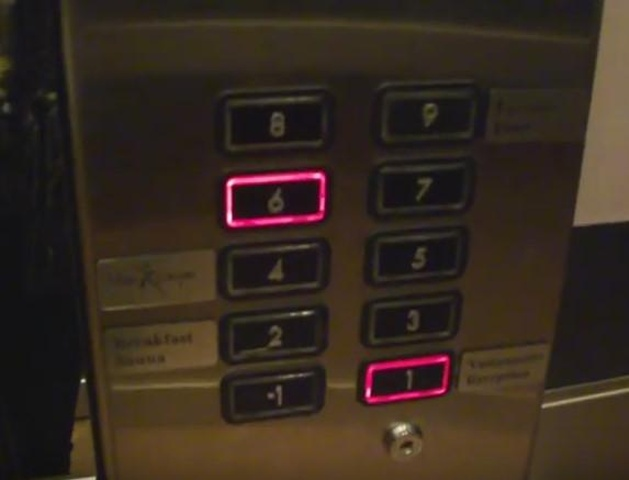-1: (218, 363, 329, 424)
1: (357, 353, 451, 404)
2: (219, 303, 330, 363)
3: (361, 290, 462, 346)
4: (219, 236, 331, 298)
5: (364, 225, 469, 284)
6: (216, 163, 334, 231)
7: (367, 156, 474, 216)
8: (214, 85, 333, 155)
9: (373, 76, 483, 148)
keyhole: (382, 420, 424, 461)
